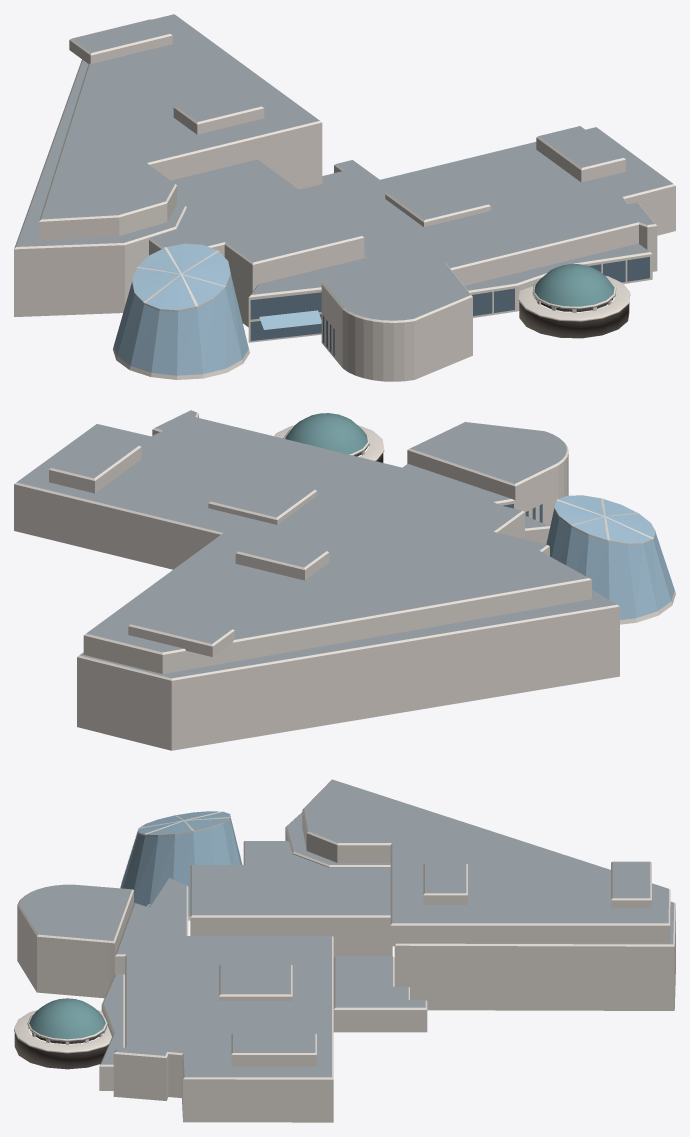
The model's file is hou-museum-of-natural-science.glb.
3 renders of one model, top to bottom at view 1: azimuth 30°, elevation 25°; view 2: azimuth 150°, elevation 25°; view 3: azimuth 270°, elevation 25°, orthographic. The views are drawn at different scales.
Parts seen in each view (by area): view 1: Houston Museum of Natural Science; view 2: Houston Museum of Natural Science; view 3: Houston Museum of Natural Science.
Boxes of the visible parts, left/top/right/bottom form: Houston Museum of Natural Science: left=14, top=14, right=675, bottom=381; Houston Museum of Natural Science: left=14, top=410, right=675, bottom=750; Houston Museum of Natural Science: left=14, top=779, right=675, bottom=1122.
Bounding box in the file's own units: 157 × 26 × 162.
